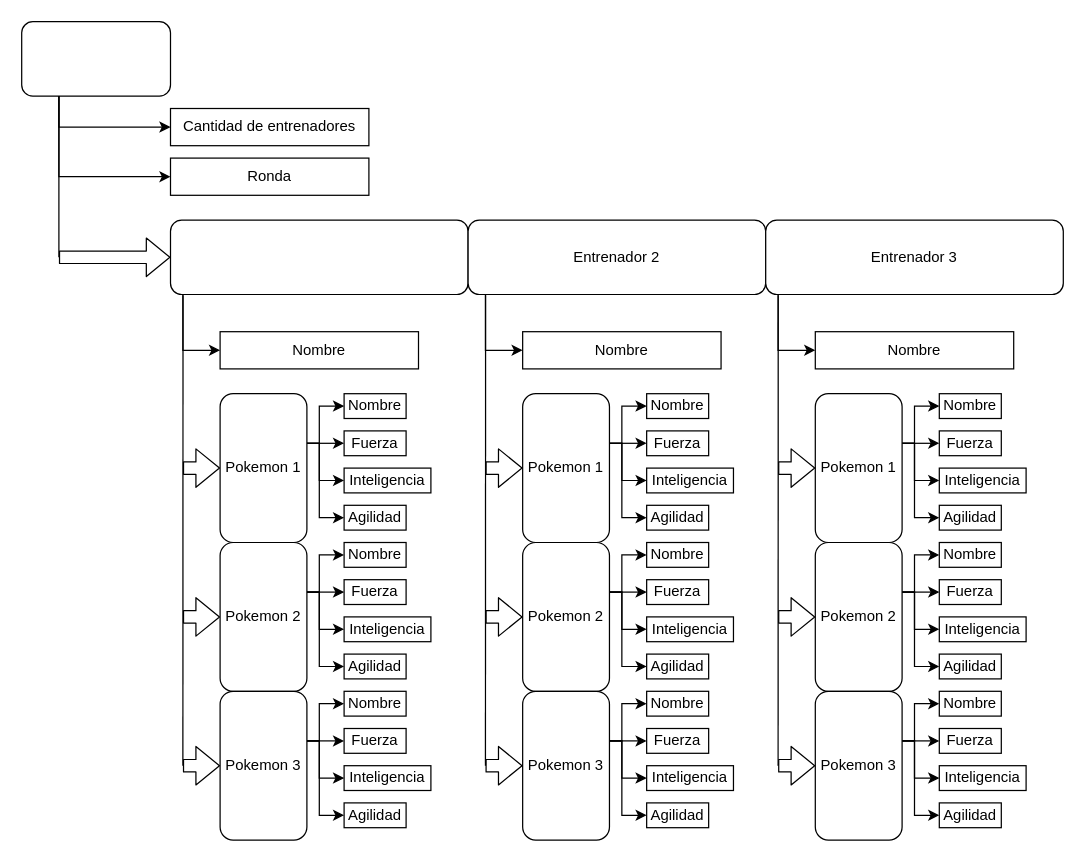
The diagram is 1085 pixels wide and 862 high, and some of its shapes have lost their labels. Here are the shapes that lost their labels. From the top down, the centre of each, then its label:
At (95,58): "Torneo".
At (318,256): "Entrenador 1".
